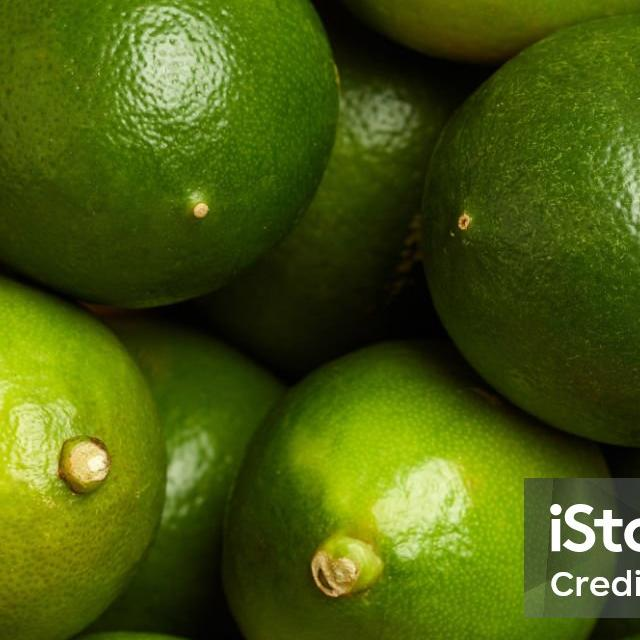lime: (419, 18, 640, 452)
